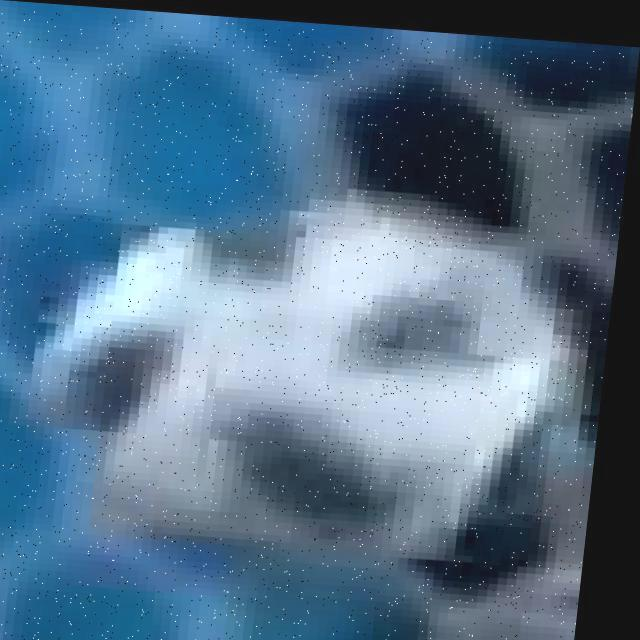ballon: (0, 6, 639, 640)
